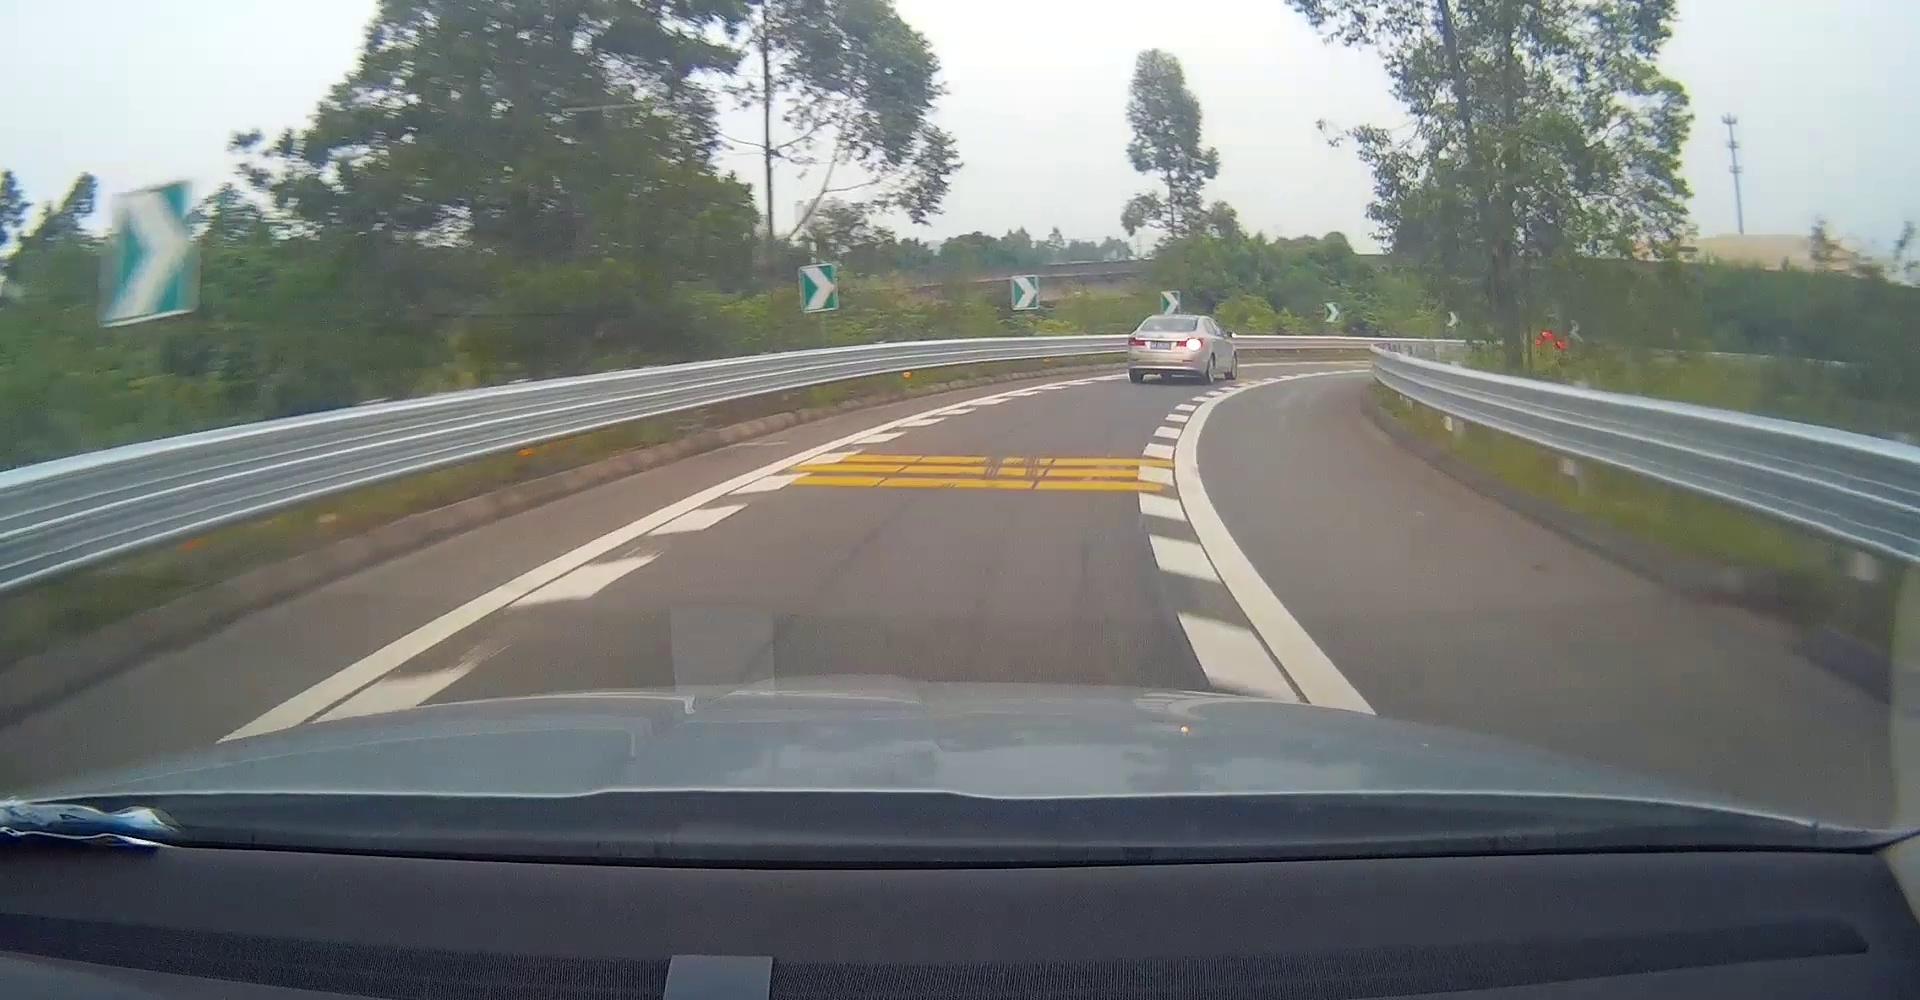L_light: (1128, 338, 1145, 346)
R_light: (1178, 338, 1203, 352)
T_light: (1162, 327, 1173, 331)
day-right: (1128, 313, 1204, 382)
